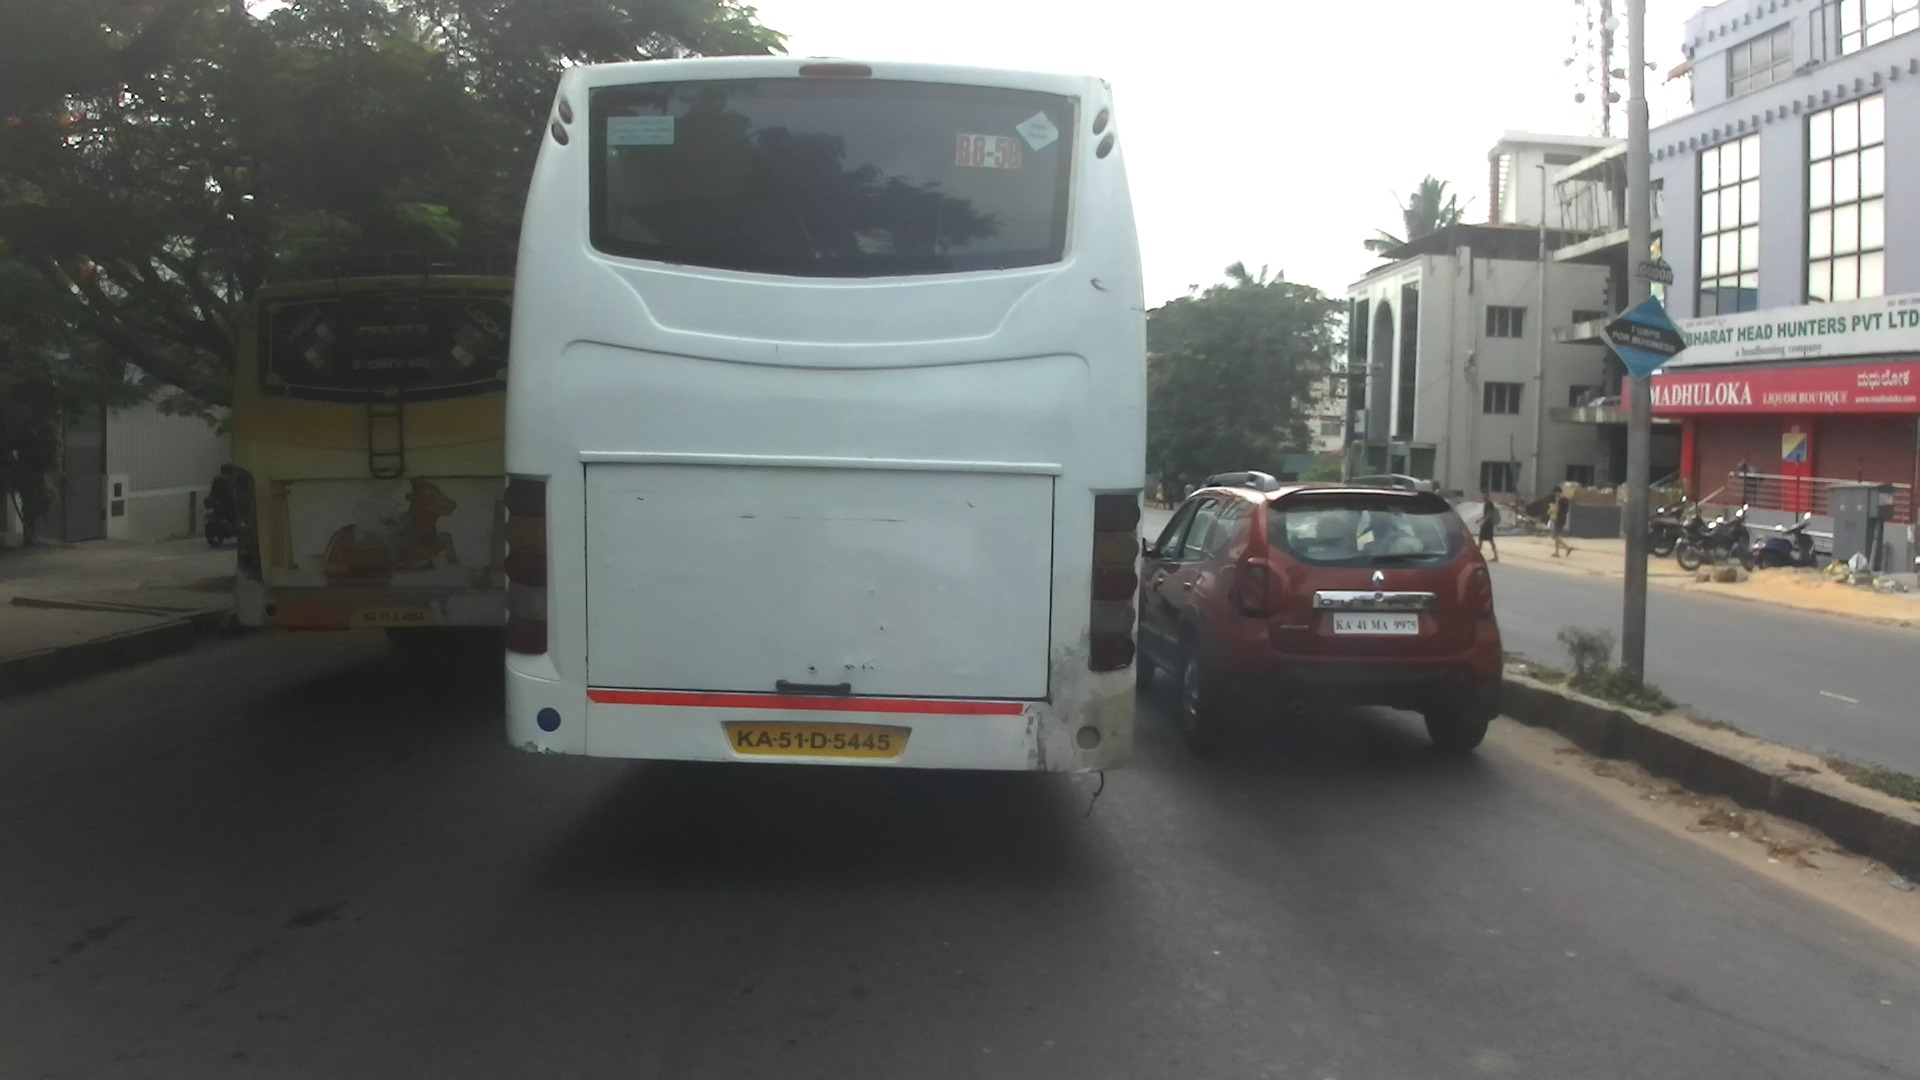bus: (500, 53, 1150, 800), (226, 246, 525, 659)
car: (1134, 471, 1506, 755)
motorcycle: (1675, 501, 1755, 571), (1749, 508, 1819, 570), (1652, 498, 1703, 557), (1643, 493, 1690, 552), (198, 496, 235, 547)
person: (1547, 484, 1576, 558), (1476, 487, 1501, 563), (1153, 478, 1167, 508), (1182, 479, 1197, 499), (1166, 481, 1174, 510)
rider: (211, 460, 235, 523)
